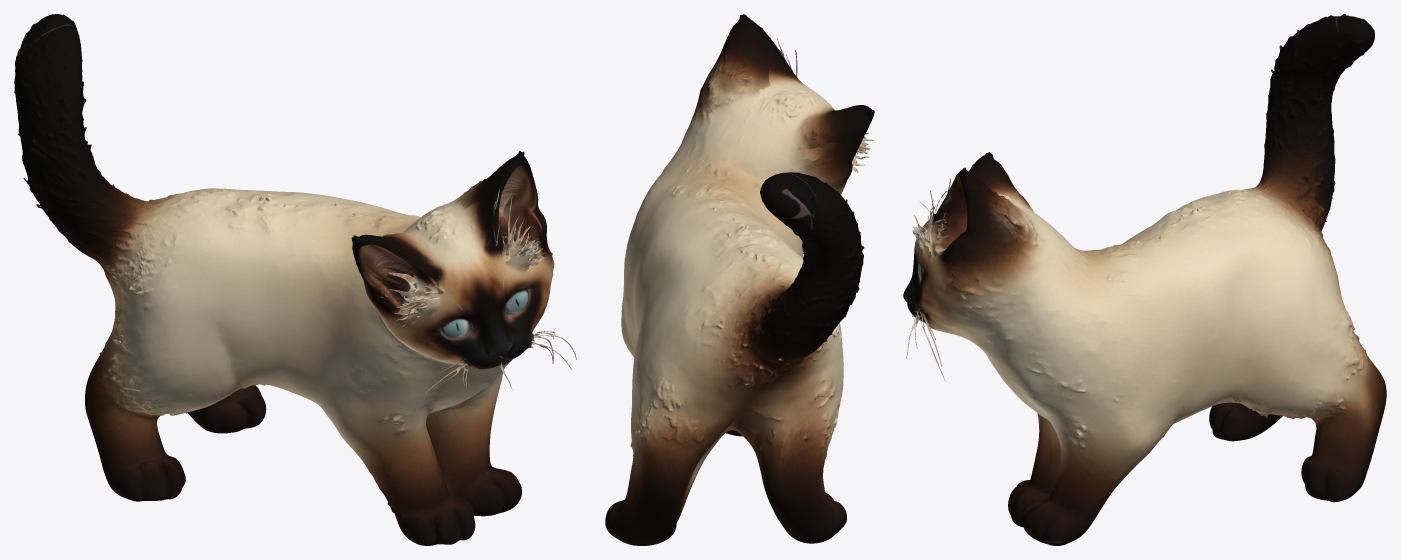
Rendered from percy.glb.
3 renders of one model, left to right at view 1: azimuth 30°, elevation 25°; view 2: azimuth 150°, elevation 25°; view 3: azimuth 270°, elevation 25°, orthographic. The views are drawn at different scales.
Size of the model in its own units: 1.5 by 1.76 by 1.89.
1 material, 1 textured.
